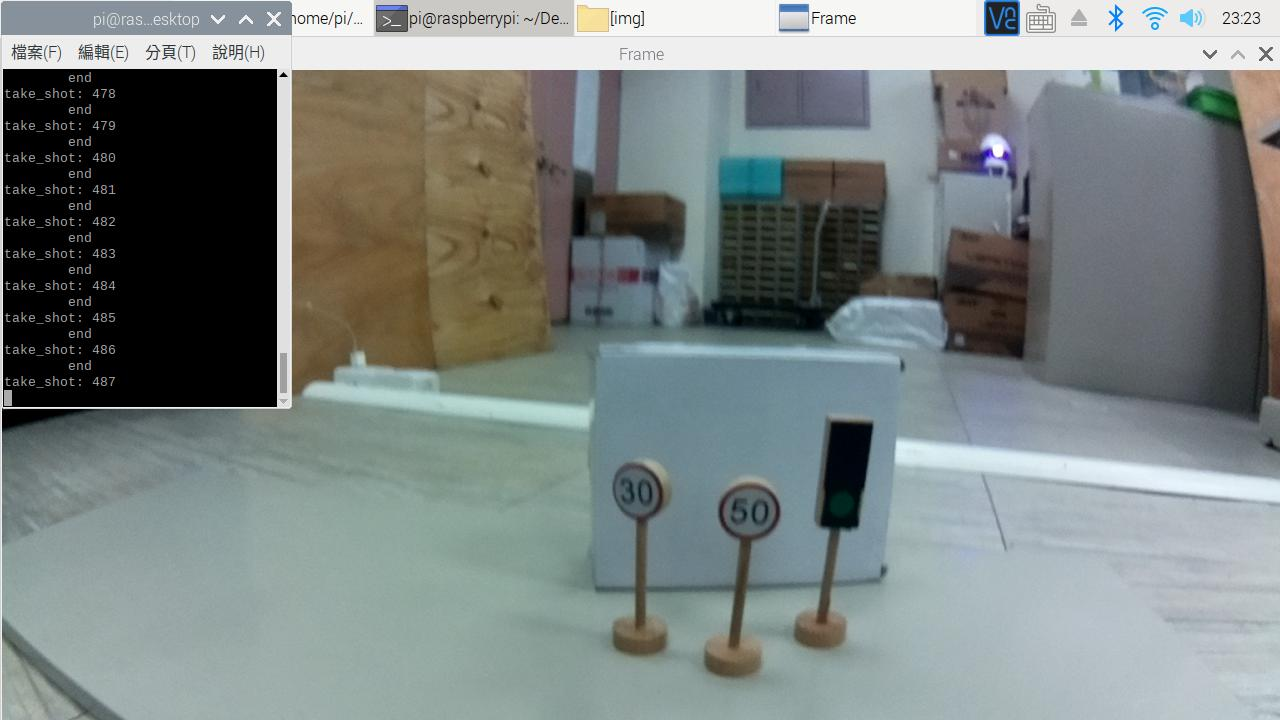Green: (816, 413, 885, 539)
Speed30: (601, 453, 679, 533)
Speed50: (709, 479, 789, 551)
